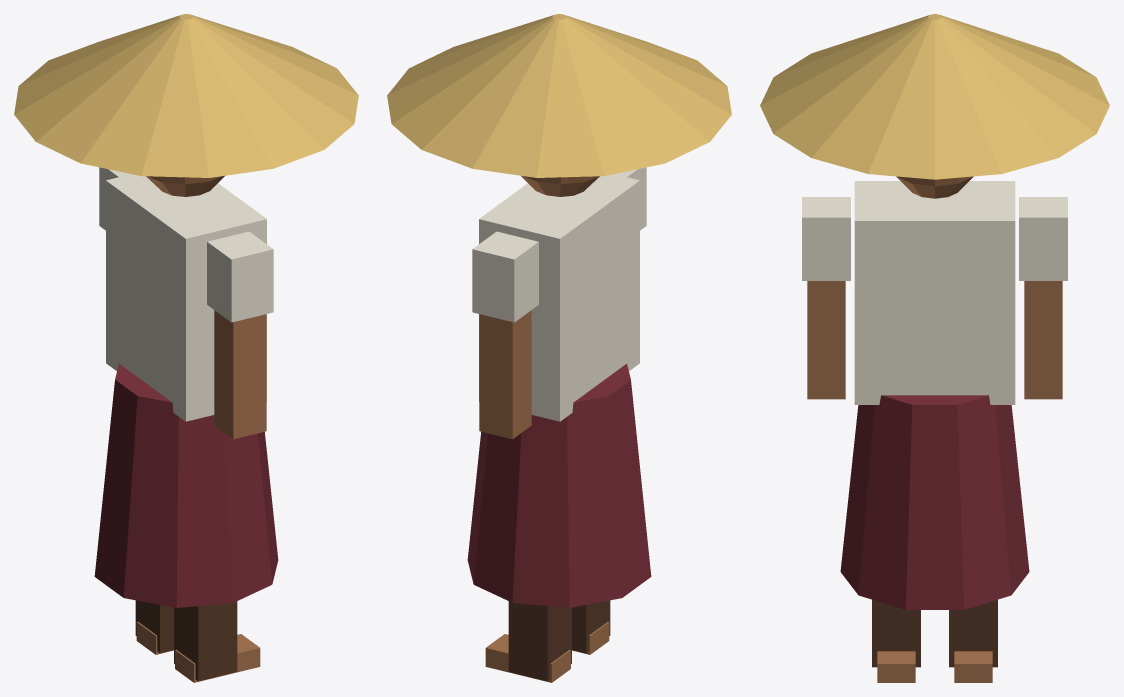
Rendered from farmer.glb.
The picture shows the model from 3 angles, left to right: view 1: azimuth 30°, elevation 25°; view 2: azimuth 150°, elevation 25°; view 3: azimuth 270°, elevation 25°; orthographic projection.
Visible parts, largest first — view 1: hat, longyi, chest, armR, sleeveR, legR, legL, footR, head, sleeveL; view 2: hat, longyi, chest, armL, sleeveL, legL, legR, footL, head, sleeveR; view 3: hat, longyi, chest, armL, armR, sleeveL, sleeveR, legL, legR, footL, footR, head.
Boxes of the visible parts, left/top/right/bottom form: hat: left=14, top=14, right=358, bottom=177; longyi: left=94, top=363, right=278, bottom=607; chest: left=106, top=174, right=266, bottom=421; armR: left=214, top=310, right=266, bottom=439; sleeveR: left=207, top=231, right=273, bottom=322; legR: left=174, top=601, right=237, bottom=681; legL: left=135, top=600, right=173, bottom=653; footR: left=175, top=634, right=260, bottom=682; head: left=146, top=176, right=224, bottom=196; sleeveL: left=99, top=167, right=130, bottom=230; hat: left=387, top=14, right=731, bottom=177; longyi: left=467, top=363, right=651, bottom=607; chest: left=479, top=174, right=639, bottom=421; armL: left=479, top=310, right=531, bottom=439; sleeveL: left=472, top=231, right=538, bottom=322; legL: left=508, top=601, right=571, bottom=681; legR: left=572, top=600, right=610, bottom=653; footL: left=485, top=634, right=570, bottom=682; head: left=521, top=176, right=599, bottom=196; sleeveR: left=615, top=167, right=646, bottom=230; hat: left=760, top=14, right=1109, bottom=179; longyi: left=840, top=395, right=1029, bottom=609; chest: left=854, top=181, right=1015, bottom=404; armL: left=1024, top=281, right=1062, bottom=399; armR: left=807, top=281, right=845, bottom=399; sleeveL: left=1019, top=197, right=1067, bottom=280; sleeveR: left=802, top=197, right=850, bottom=280; legL: left=949, top=599, right=997, bottom=667; legR: left=872, top=599, right=920, bottom=667; footL: left=954, top=651, right=992, bottom=682; footR: left=877, top=651, right=915, bottom=682; head: left=896, top=176, right=973, bottom=198.
Size of the model in its own units: 1 by 2.03 by 1.
